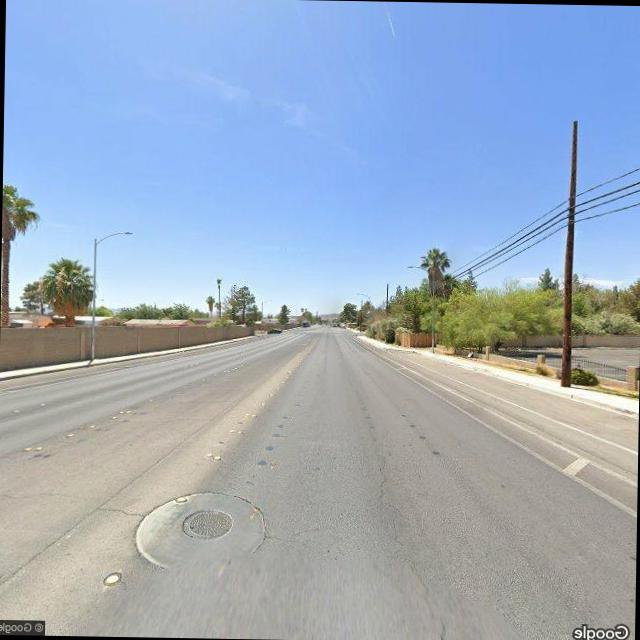pothole: (370, 448, 469, 640)
